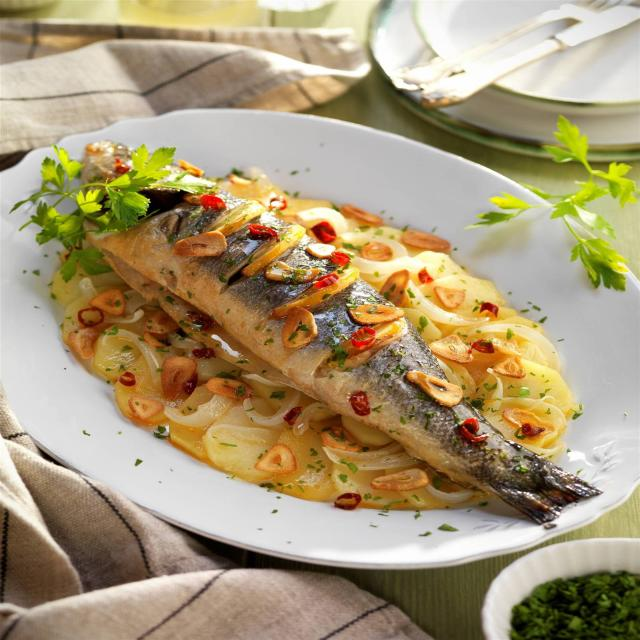pescado: (60, 163, 596, 531)
